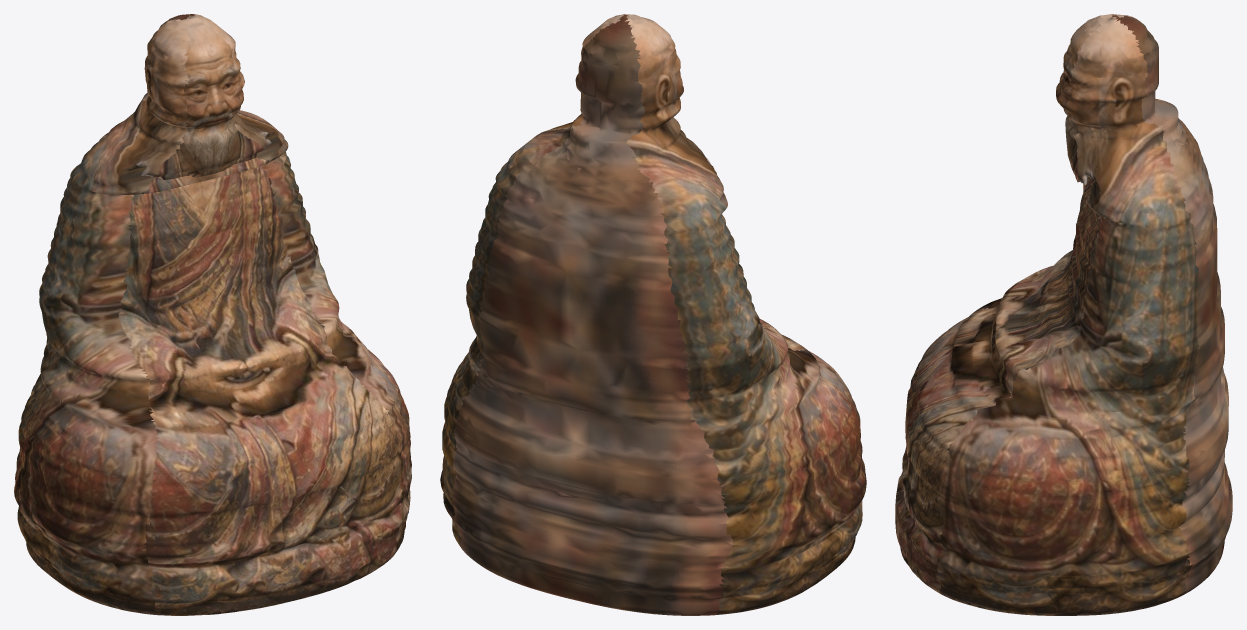
Rendered from sengcan.glb.
3 renders of one model, left to right at view 1: azimuth 30°, elevation 25°; view 2: azimuth 150°, elevation 25°; view 3: azimuth 270°, elevation 25°, orthographic. The views are drawn at different scales.
Visible parts, largest first — view 1: sengcan; view 2: sengcan; view 3: sengcan.
Part boxes in pixels (x1,y1,x2,y2): sengcan: (14, 14, 411, 615); sengcan: (440, 14, 866, 615); sengcan: (895, 14, 1232, 615).
Size of the model in its own units: 0.723 by 1.01 by 0.5878.
1 material, 1 textured.
